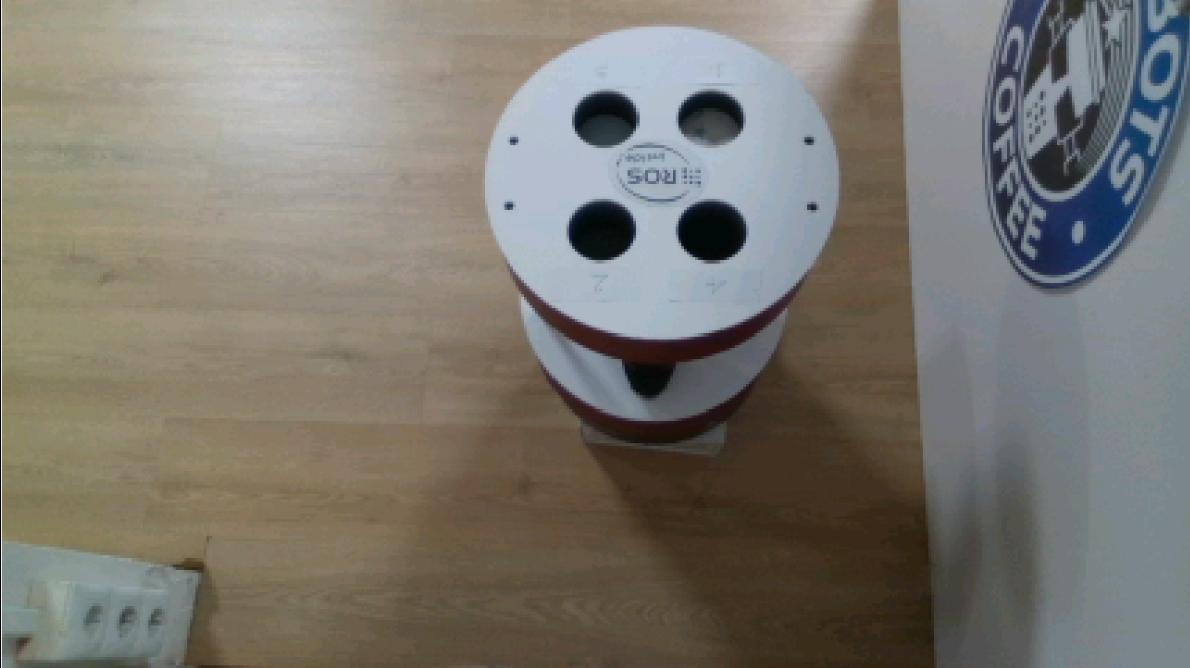hole: (563, 192, 638, 264), (675, 199, 750, 265), (678, 84, 750, 149), (571, 86, 641, 150)
